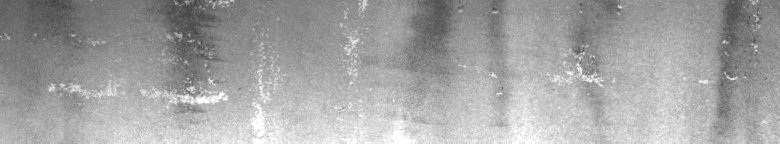hc: (699, 4, 762, 86)
